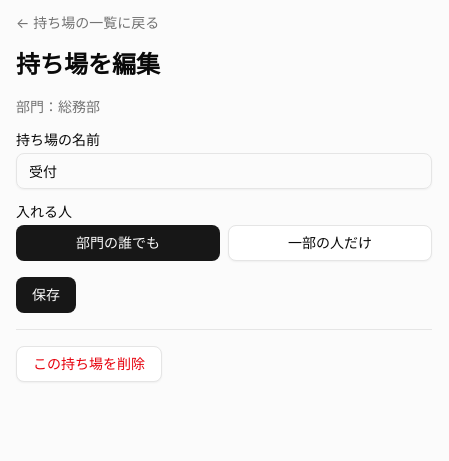
Test case: 持ち場の編集画面 › 保存に失敗したらエラーを出し、画面に残る
Expected: the field labelled "持ち場の名前" is shown, [16, 153, 432, 189]
Click the button "保存": (46,295) [16, 277, 76, 313]
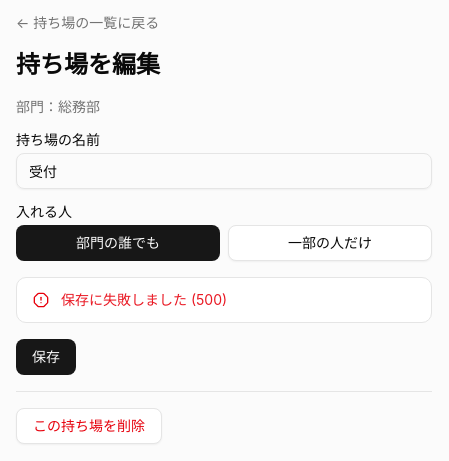
Now the text "保存に失敗しました (500)" is shown, box [61, 291, 227, 308]
